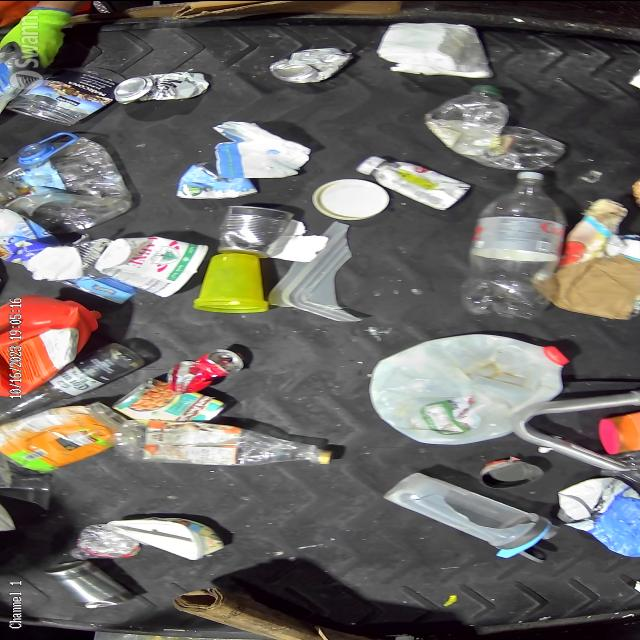can: (50, 232, 142, 302), (110, 378, 232, 422), (40, 560, 138, 608), (216, 204, 296, 258), (167, 348, 248, 393), (113, 70, 210, 104), (268, 46, 354, 83), (476, 457, 546, 489)
milk_jug: (368, 330, 568, 444)
non_white_jug: (0, 130, 133, 234), (0, 294, 106, 396), (554, 475, 640, 558), (0, 207, 58, 266)
plastic_bottle: (462, 169, 564, 319), (422, 82, 568, 170), (112, 416, 337, 468), (66, 522, 142, 560)
